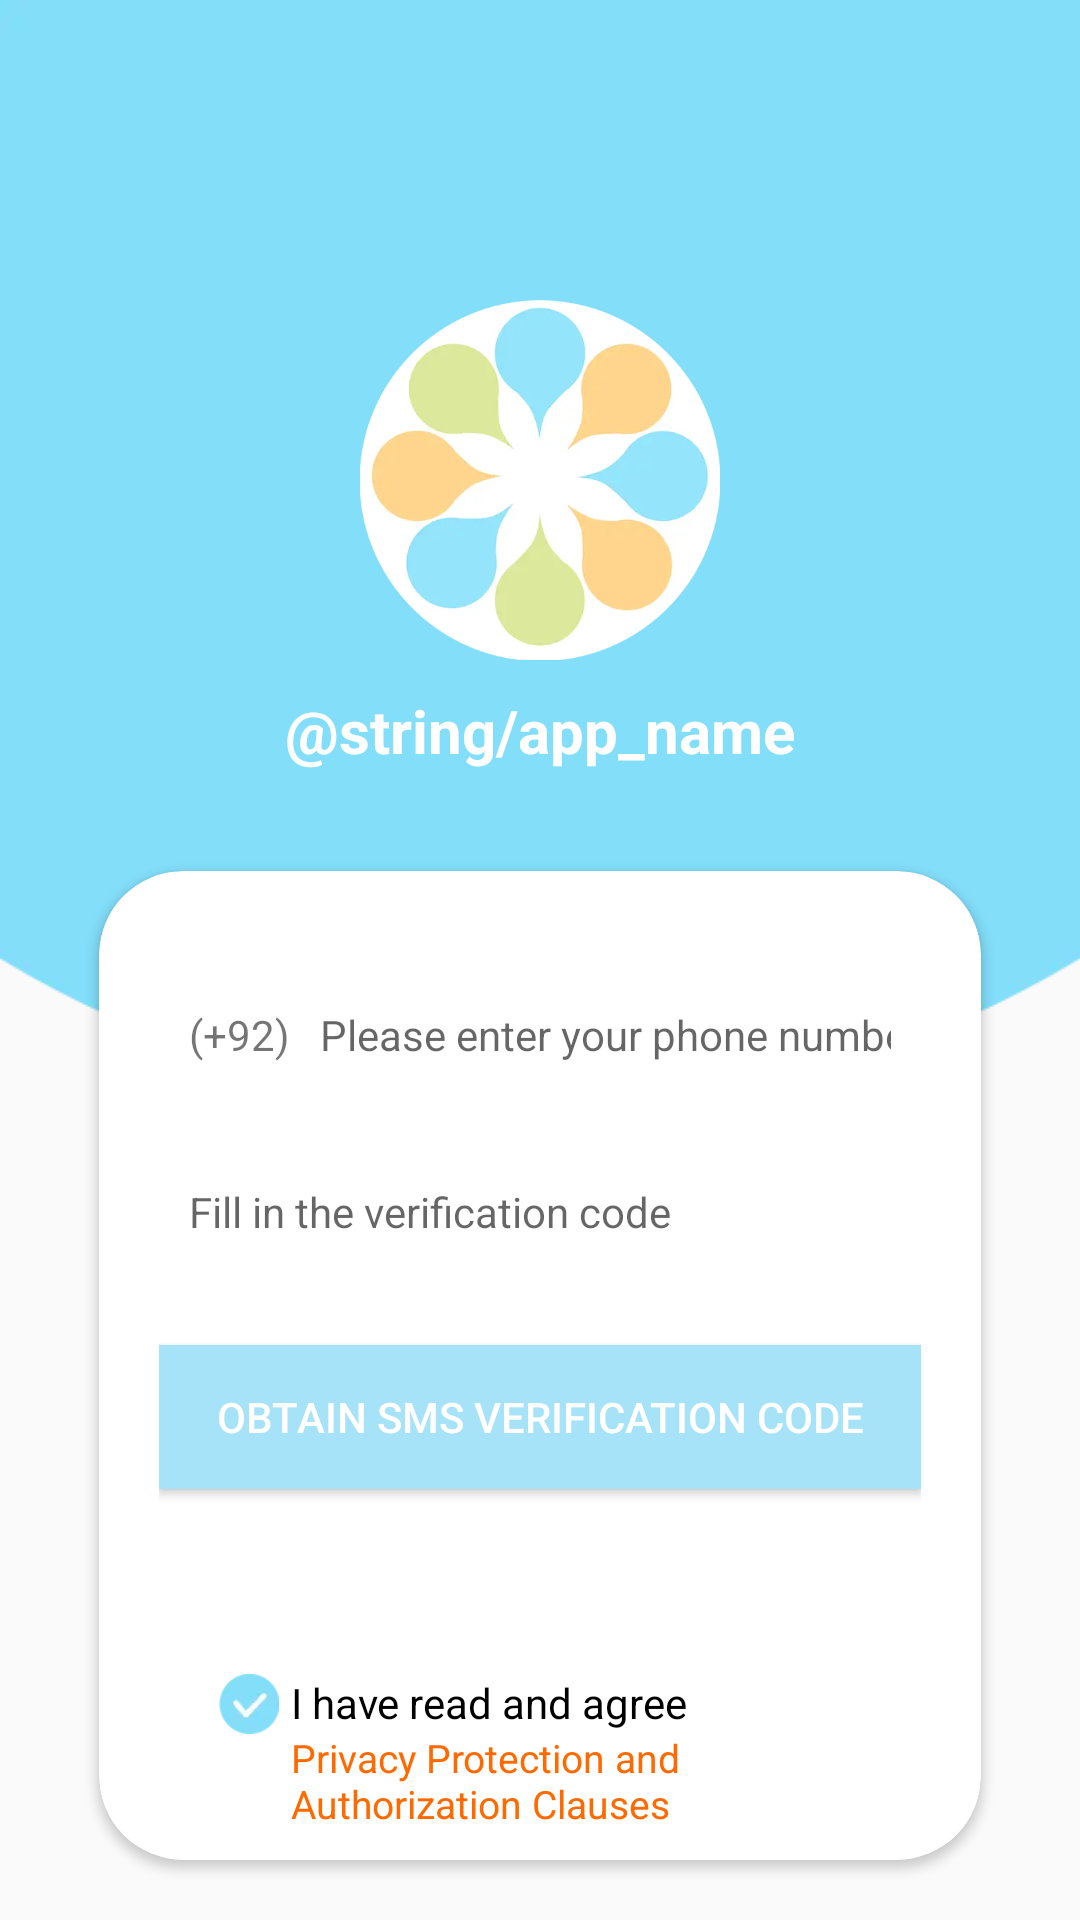

Locate icon controls on the screen. Image size 1080px x 1920px, boxes as bbox=[x1, y1, x2, y2].
paisa select choose: bbox=[219, 1674, 279, 1734]
